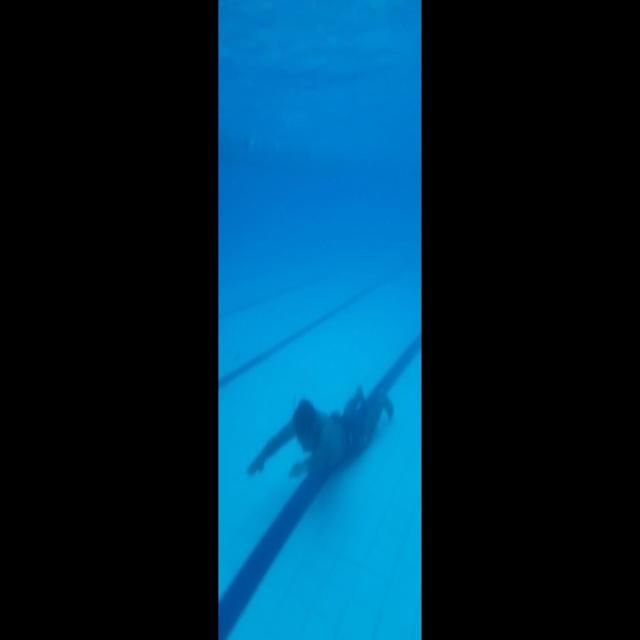drowning: (243, 349, 390, 503)
